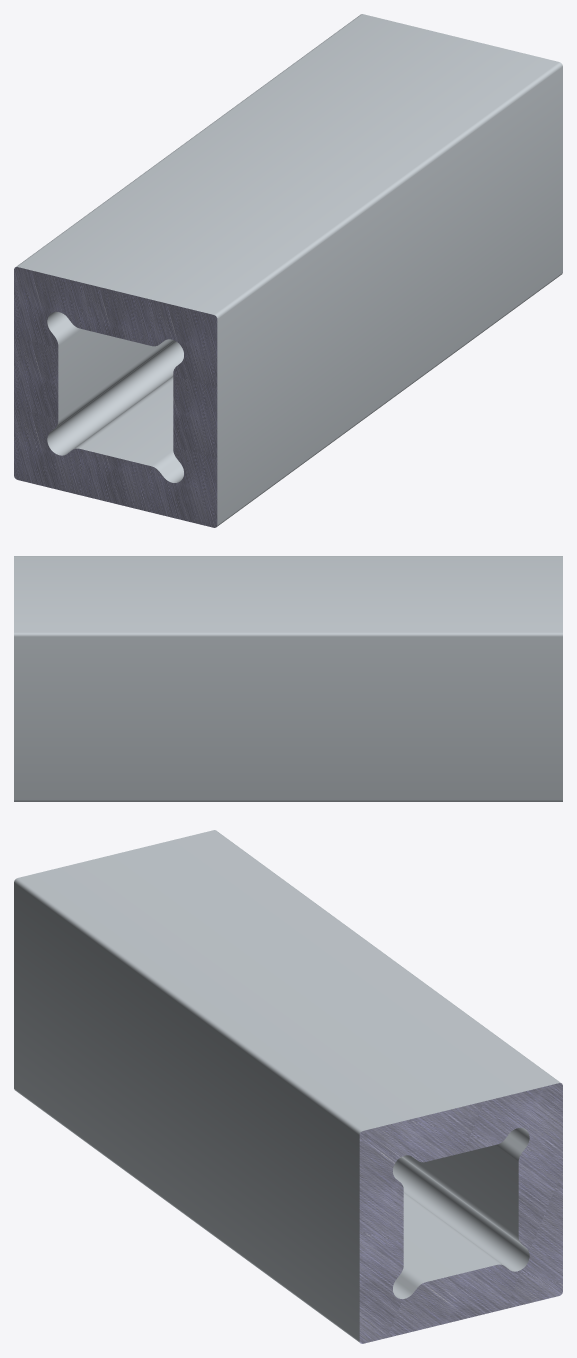
3 views of the same model, one above another, from view 1: azimuth 30°, elevation 25°; view 2: azimuth 150°, elevation 25°; view 3: azimuth 270°, elevation 25° (orthographic). The views are drawn at different scales.
Parts seen in each view (by area): view 1: THIN 01; view 2: THIN 01; view 3: THIN 01.
Boxes of the visible parts, left/top/right/bottom form: THIN 01: left=14, top=14, right=562, bottom=527; THIN 01: left=14, top=556, right=562, bottom=801; THIN 01: left=14, top=830, right=562, bottom=1343.
Bounding box in the file's own units: 0.0518 × 0.017 × 0.0397.
Materials: 2 (1 with a texture image).
